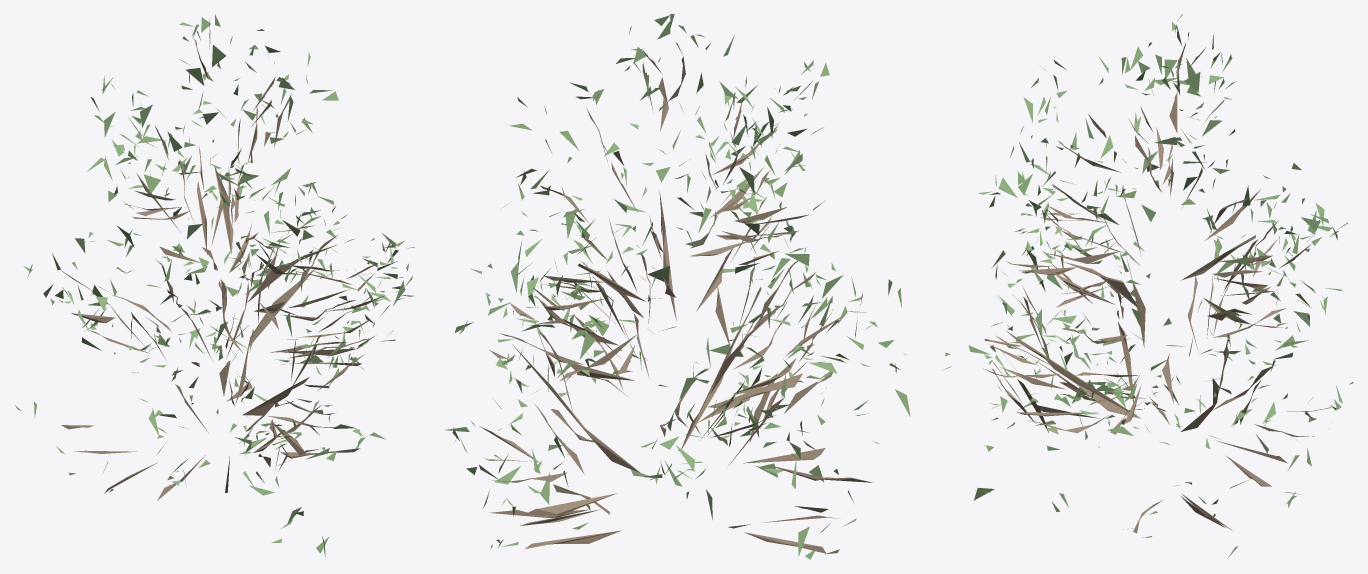
The model's file is env_tree_beech.glb.
3 views of the same model, side by side, from view 1: azimuth 30°, elevation 25°; view 2: azimuth 150°, elevation 25°; view 3: azimuth 270°, elevation 25° (orthographic). The views are drawn at different scales.
Parts seen in each view (by area): view 1: env_tree_beech_foliage, env_tree_beech_trunk; view 2: env_tree_beech_foliage, env_tree_beech_trunk; view 3: env_tree_beech_foliage, env_tree_beech_trunk.
Boxes of the visible parts, x1,y1,x2,y2 form: env_tree_beech_foliage: [15, 14, 414, 559]; env_tree_beech_trunk: [59, 19, 384, 500]; env_tree_beech_foliage: [445, 14, 910, 559]; env_tree_beech_trunk: [479, 49, 872, 553]; env_tree_beech_foliage: [942, 14, 1353, 558]; env_tree_beech_trunk: [983, 43, 1331, 533].
Bounding box in the file's own units: 7.03 × 9.24 × 7.18.
